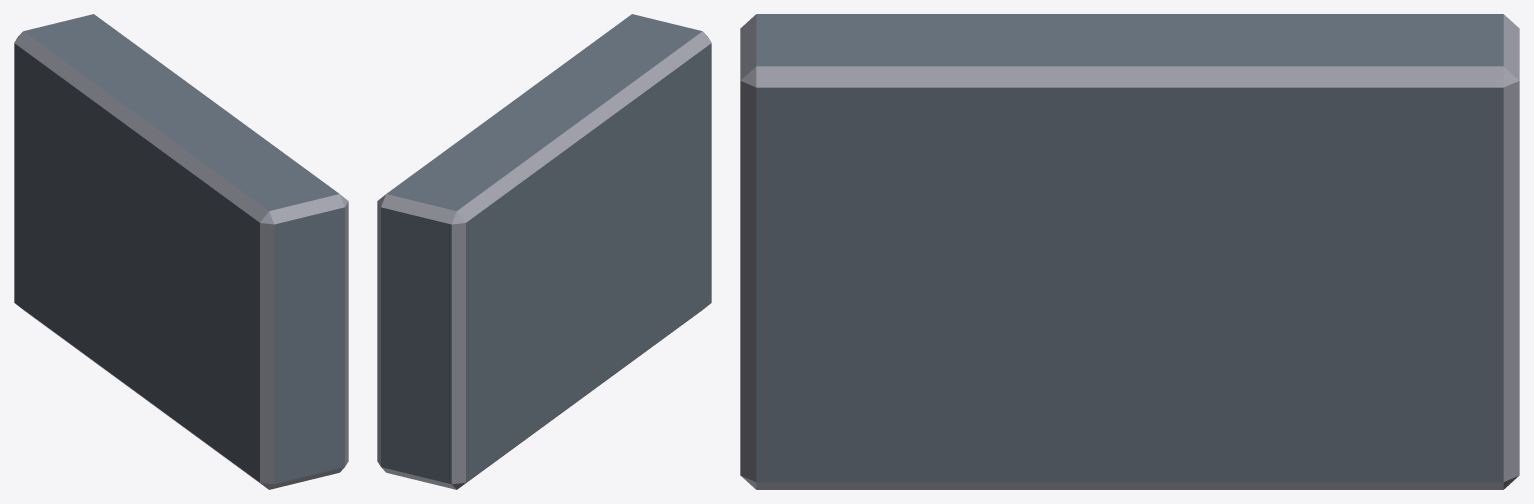
The model's file is Wall_D_3_1.obj.
3 renders of one model, left to right at view 1: azimuth 30°, elevation 25°; view 2: azimuth 150°, elevation 25°; view 3: azimuth 270°, elevation 25°, orthographic. The views are drawn at different scales.
Visible parts, largest first — view 1: Wall_D_3_1; view 2: Wall_D_3_1; view 3: Wall_D_3_1.
Part boxes in pixels (box(x1,y1,x2,y2)): Wall_D_3_1: box(14, 14, 348, 489); Wall_D_3_1: box(377, 14, 711, 489); Wall_D_3_1: box(740, 14, 1519, 489).
Bounding box in the file's own units: 0.4 × 1.2 × 2.
